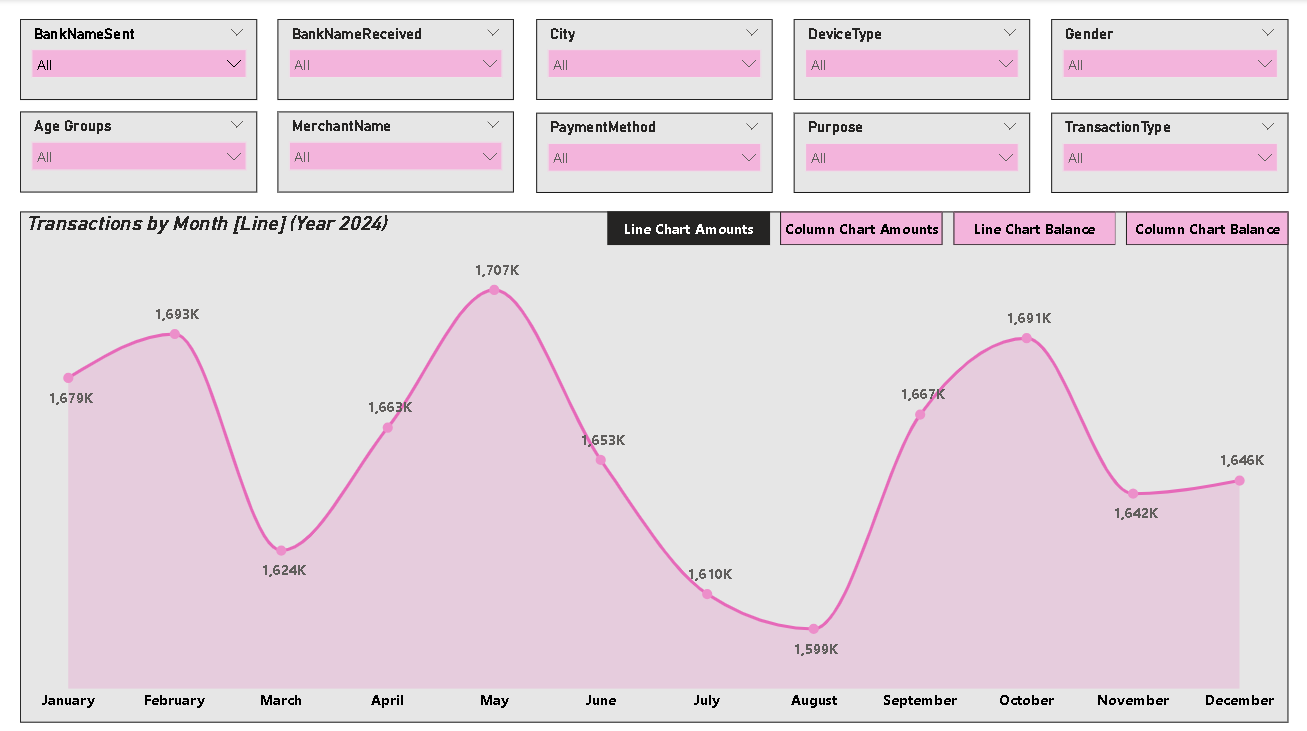

What the dashboard file says about the page in this screenshot:
{"tool":"powerbi","page":{"name":"Transaction Chart","canvas":[1280,720],"ordinal":0},"visuals":[{"type":"slicer","fields":{"Values":["UPI Transactions.BankNameSent"]},"box":[19.6,19.6,232.3,79.5],"z":0},{"type":"slicer","fields":{"Values":["UPI Transactions.BankNameReceived"]},"box":[272,20,231.1,79.5],"z":1000},{"type":"slicer","fields":{"Values":["UPI Transactions.City"]},"box":[524,20,231.1,79],"z":2000},{"type":"slicer","fields":{"Values":["UPI Transactions.DeviceType"]},"box":[776,20,231.1,79],"z":3000},{"type":"slicer","fields":{"Values":["UPI Transactions.Gender"]},"box":[1028,20,232,79],"z":4000},{"type":"slicer","fields":{"Values":["UPI Transactions.Age Groups"]},"box":[20,110,232.3,79.5],"z":5000},{"type":"slicer","fields":{"Values":["UPI Transactions.MerchantName"]},"box":[271.5,110.1,231.1,79.5],"z":6000},{"type":"slicer","fields":{"Values":["UPI Transactions.PaymentMethod"]},"box":[524.6,111.3,231.1,78.3],"z":7000},{"type":"slicer","fields":{"Values":["UPI Transactions.Purpose"]},"box":[776.5,111.3,231.1,78.3],"z":8000},{"type":"slicer","fields":{"Values":["UPI Transactions.TransactionType"]},"box":[1028.4,111.3,232.3,78.3],"z":9000},{"type":"lineChart","title":"Transactions by Month [Line] (Year 2024)","fields":{"Category":["UPI Transactions.TransactionDate.Variation.Date Hierarchy.Month"],"Y":["Sum(UPI Transactions.Amount)"]},"box":[19.6,207.9,1241.2,500.1],"z":10000},{"type":"bookmarkNavigator","box":[594.3,207.9,666.4,33],"z":14500}]}

Visuals, with their boxes in screenshot pixels (x1, y1, x2, y2), scaled from the page's 1280x720 canvas onto the 1307x731 screenshot:
slicer - UPI Transactions.BankNameSent: BBox(20, 20, 257, 101)
slicer - UPI Transactions.BankNameReceived: BBox(278, 20, 514, 101)
slicer - UPI Transactions.City: BBox(535, 20, 771, 101)
slicer - UPI Transactions.DeviceType: BBox(792, 20, 1028, 101)
slicer - UPI Transactions.Gender: BBox(1050, 20, 1287, 101)
slicer - UPI Transactions.Age Groups: BBox(20, 112, 258, 192)
slicer - UPI Transactions.MerchantName: BBox(277, 112, 513, 192)
slicer - UPI Transactions.PaymentMethod: BBox(536, 113, 772, 192)
slicer - UPI Transactions.Purpose: BBox(793, 113, 1029, 192)
slicer - UPI Transactions.TransactionType: BBox(1050, 113, 1287, 192)
"Transactions by Month [Line] (Year 2024)" lineChart: BBox(20, 211, 1287, 719)
bookmarkNavigator: BBox(607, 211, 1287, 245)
